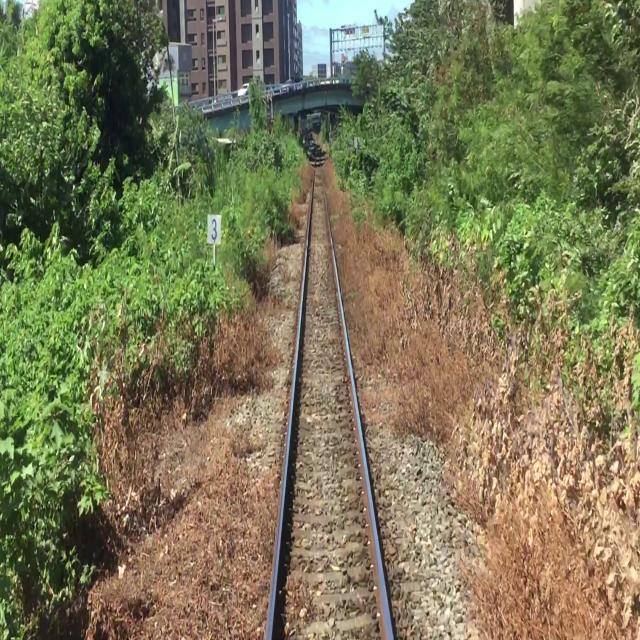track: (260, 135, 400, 640)
